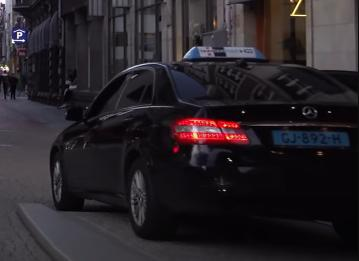license-plate: (270, 129, 354, 149)
